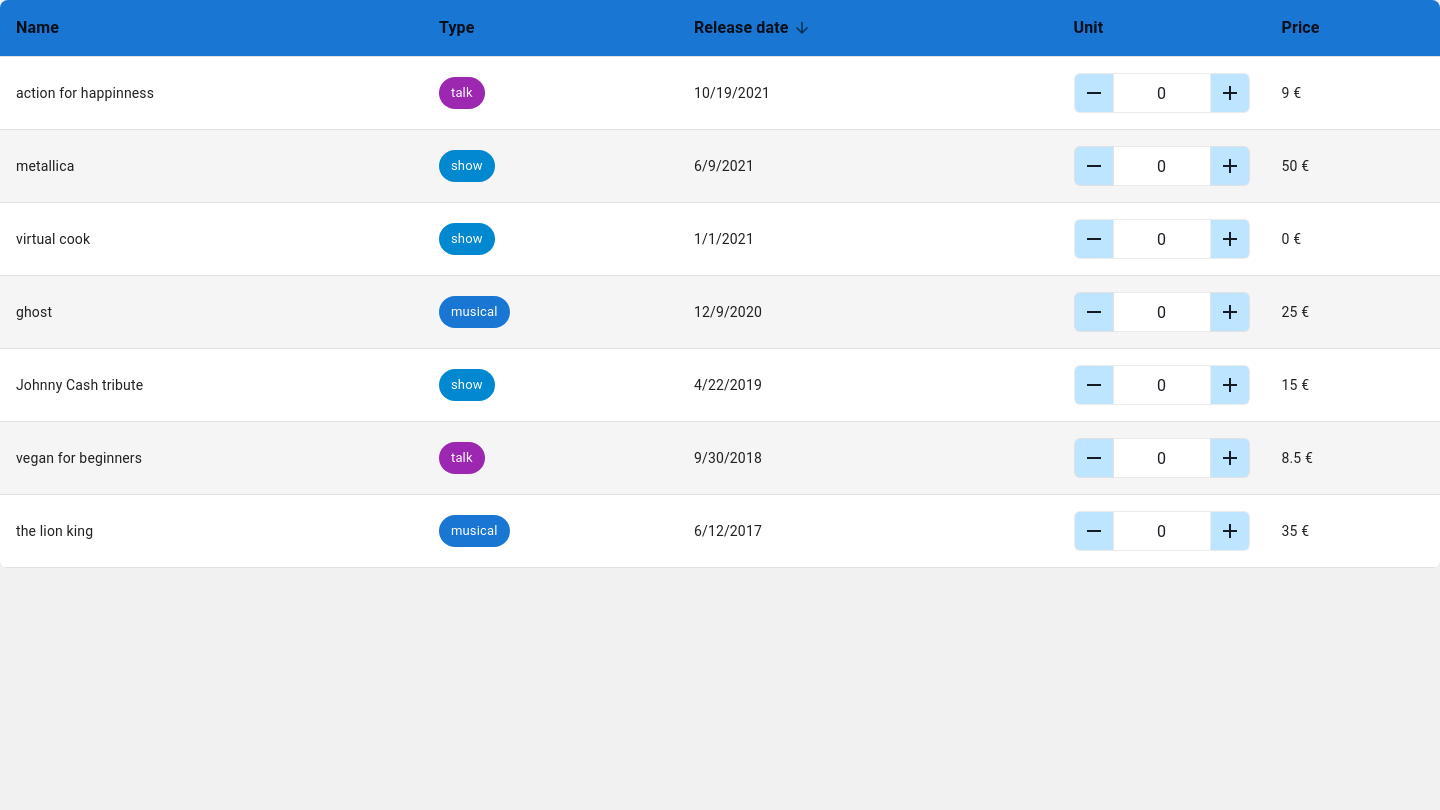
Test: TableComponent › opens modal on row click
Step 1. Click the text "Johnny Cash tribute" → (80, 385), box [16,377,143,393]
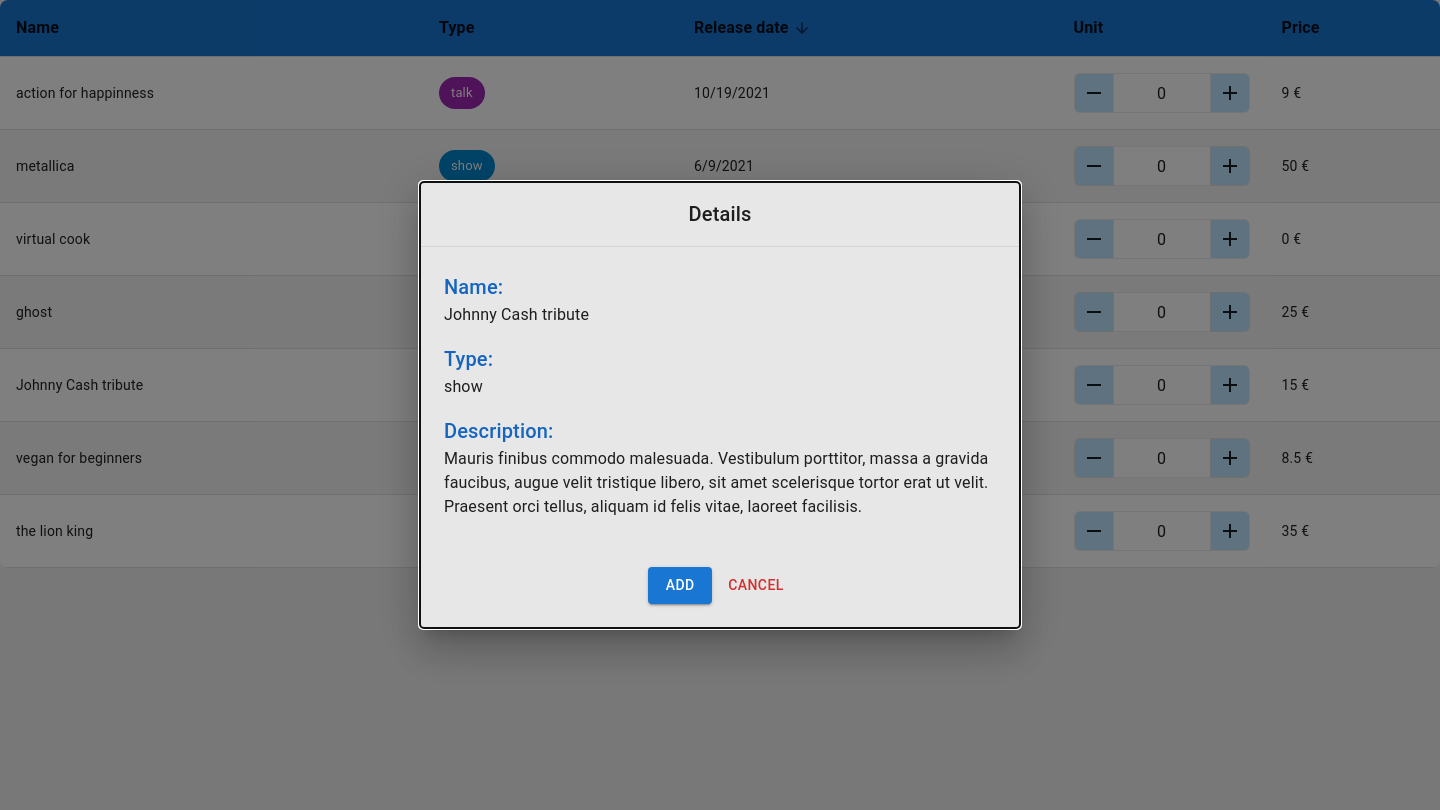
Now the button "Add" is shown, box [648,567,712,604]
